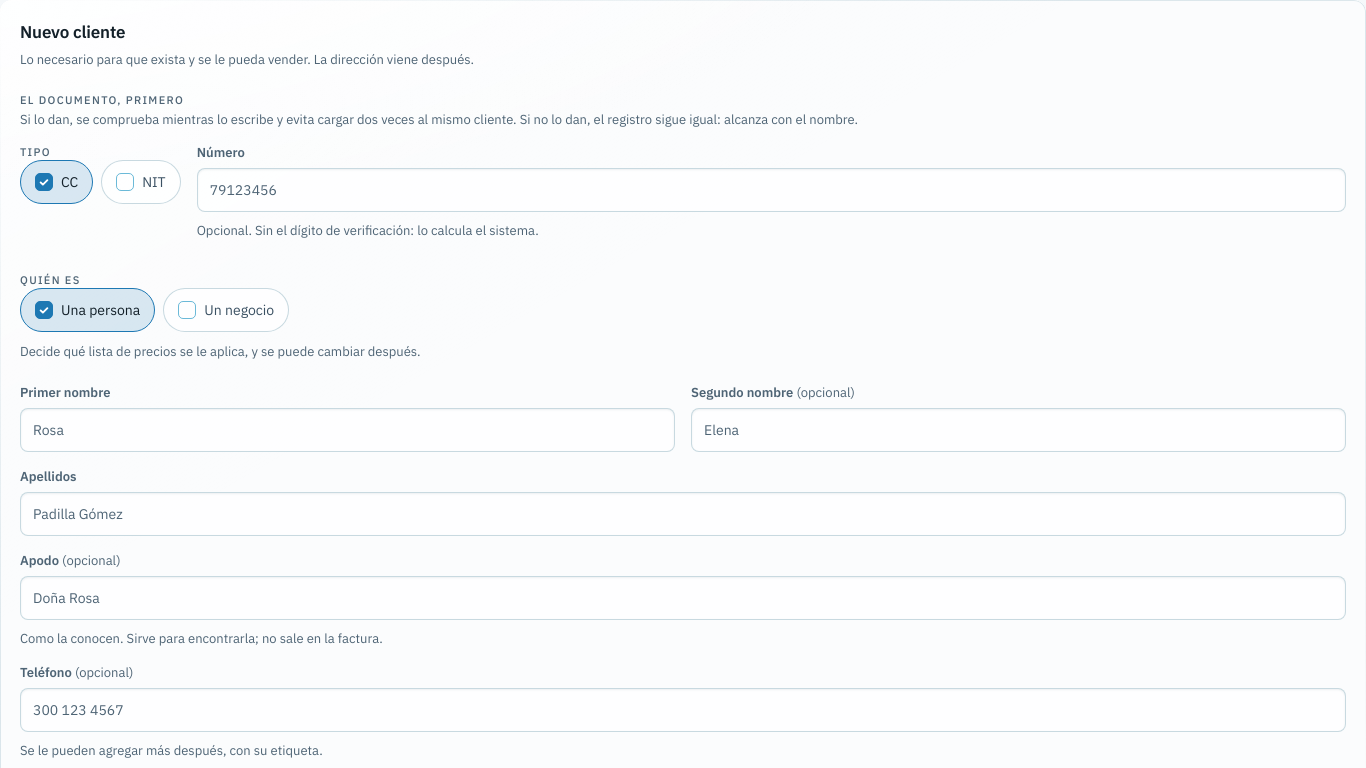
Test: el formulario sigue al tipo de cliente › elegir «Un negocio» cambia los campos Y el documento
Click the radio button labelled "Un negocio" at [226, 310], box top-left (163, 288), bottom-right (289, 332)
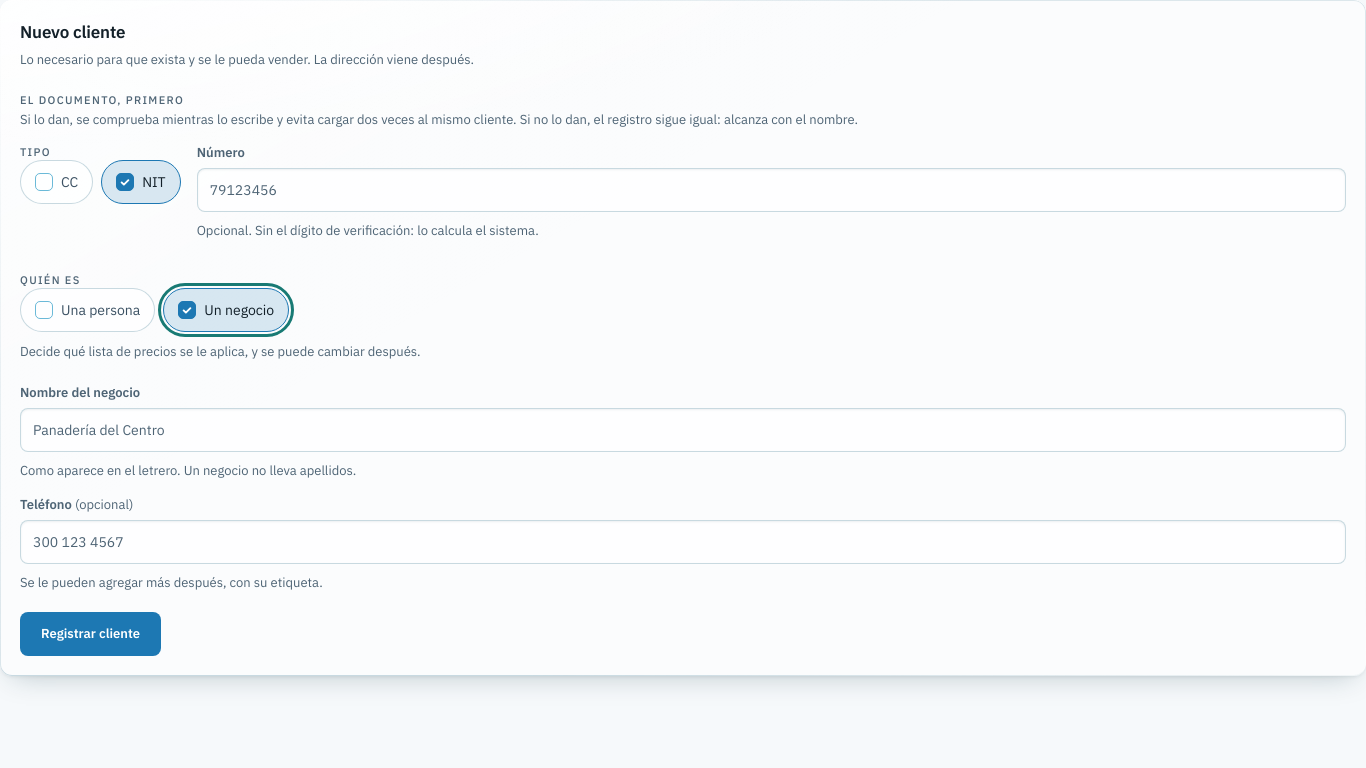
Expected: the field labelled "Nombre del negocio" is shown, top-left (20, 408), bottom-right (1346, 452)
Now the radio button labelled "NIT" is checked, box top-left (101, 160), bottom-right (181, 204)
